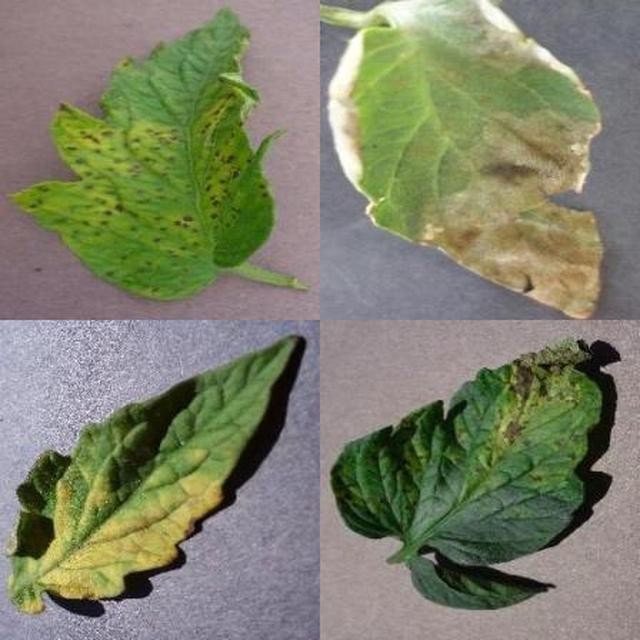Septoria Leaf: (202, 219, 640, 640)
